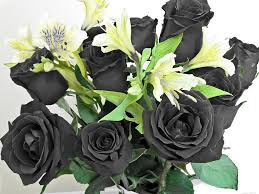lale: (142, 80, 220, 177), (0, 99, 83, 188), (5, 45, 80, 110), (69, 116, 140, 178), (159, 0, 215, 72)
